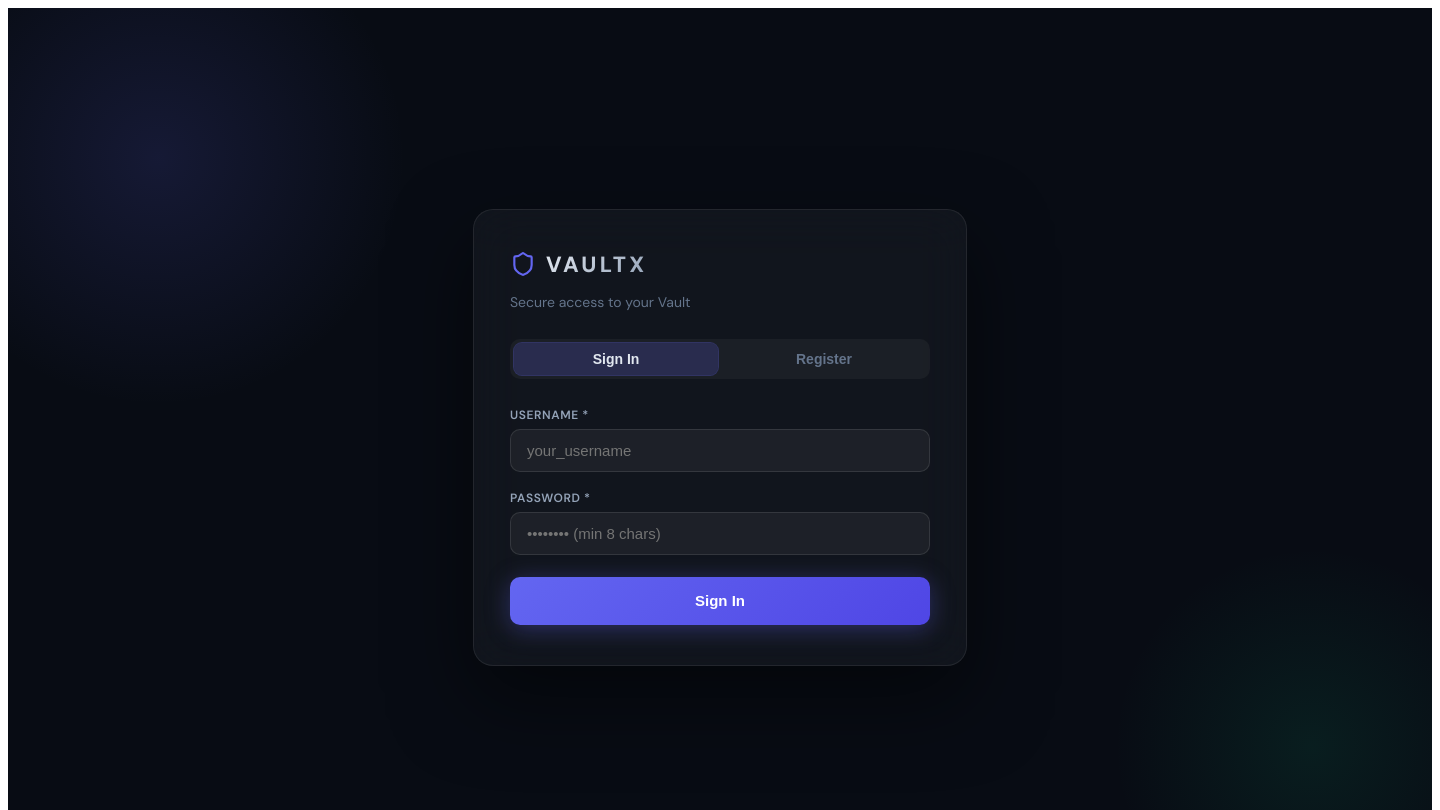
Test: Login page — client-side validation › rejects invalid email format in register mode
This screenshot has width=1440, height=810.
Click the button "Register" at {"x": 824, "y": 358}, box [722,342,926,374]
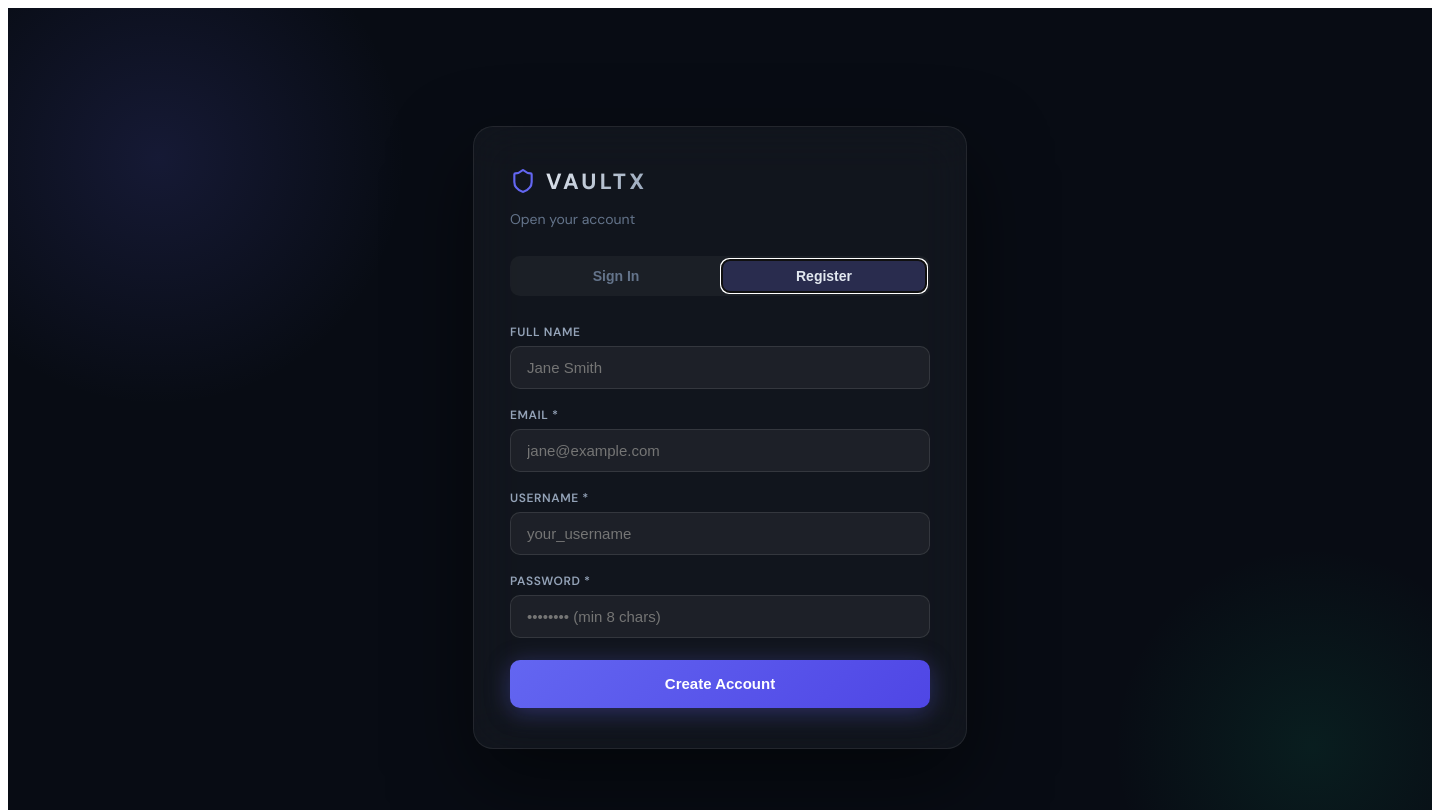
Type "alice" into the field with placeholder "your_username" at {"x": 720, "y": 533}, box [510,512,930,554]
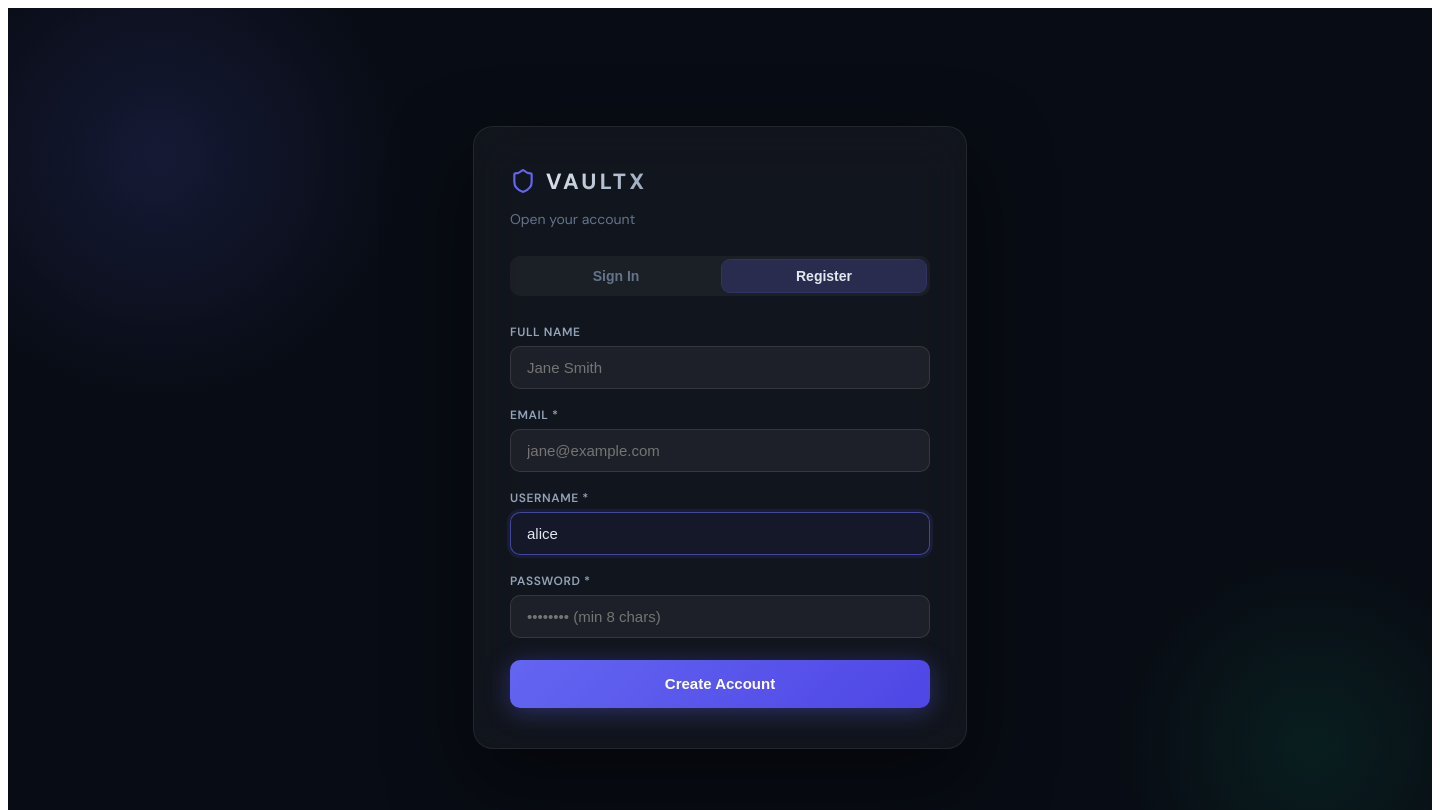
Type "password123" into the password field with placeholder "•••••••• (min 8 chars)" at {"x": 720, "y": 616}, box [510,594,930,638]
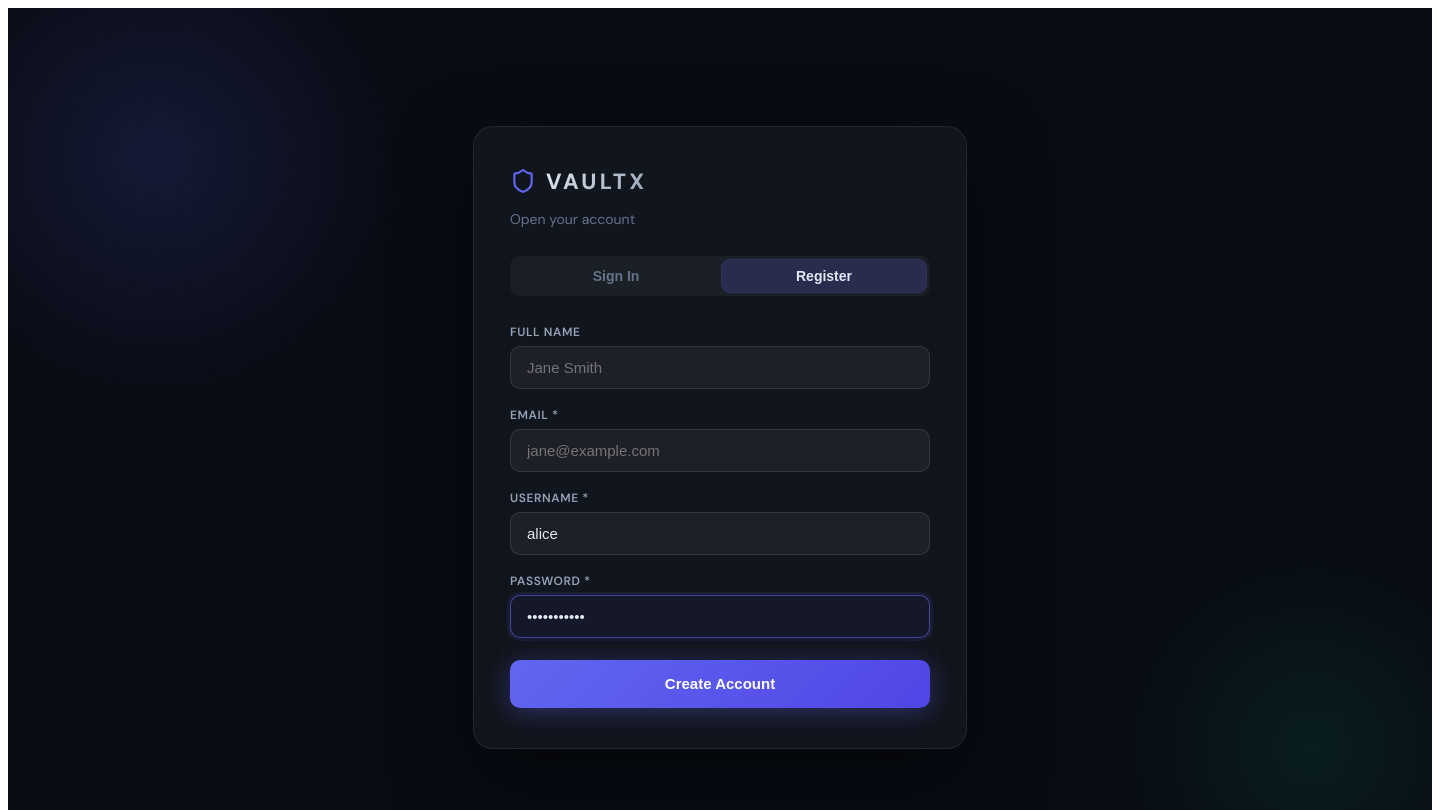
Type "notanemail" into the field with placeholder "jane@example.com" at {"x": 720, "y": 450}, box [510,428,930,472]
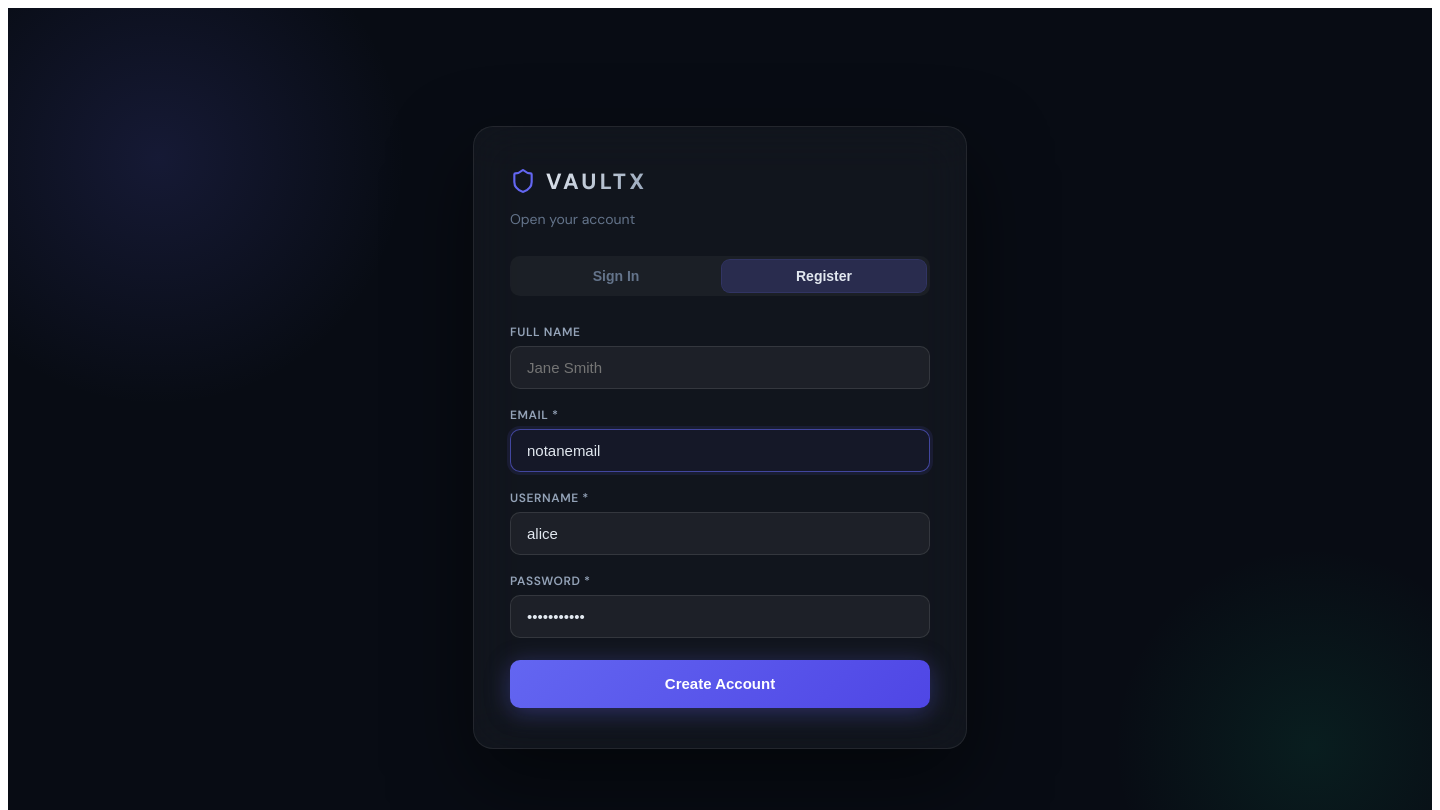
Submit the form, box [510,324,930,708]
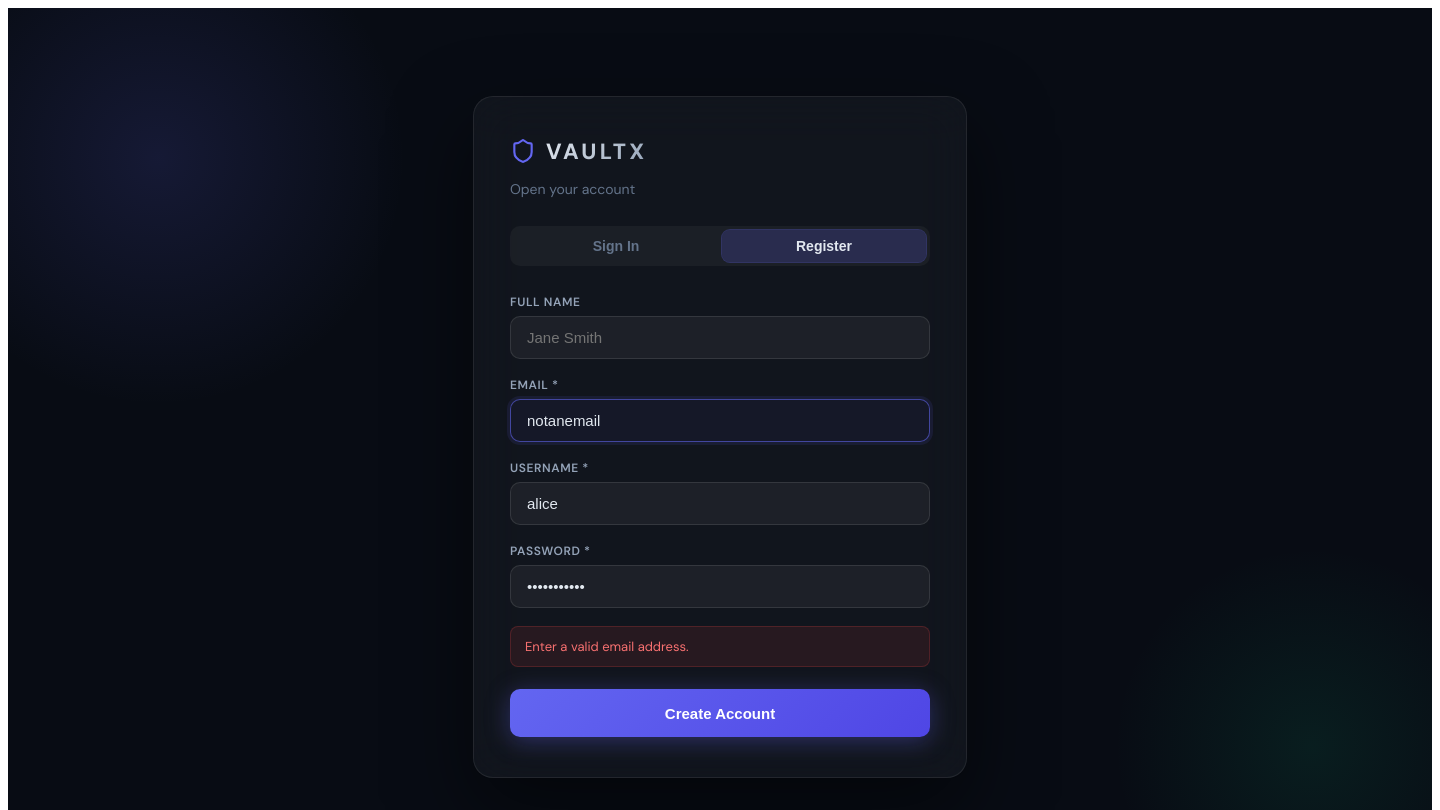
Expected: the text "Enter a valid email address." is shown, [510,626,930,667]
